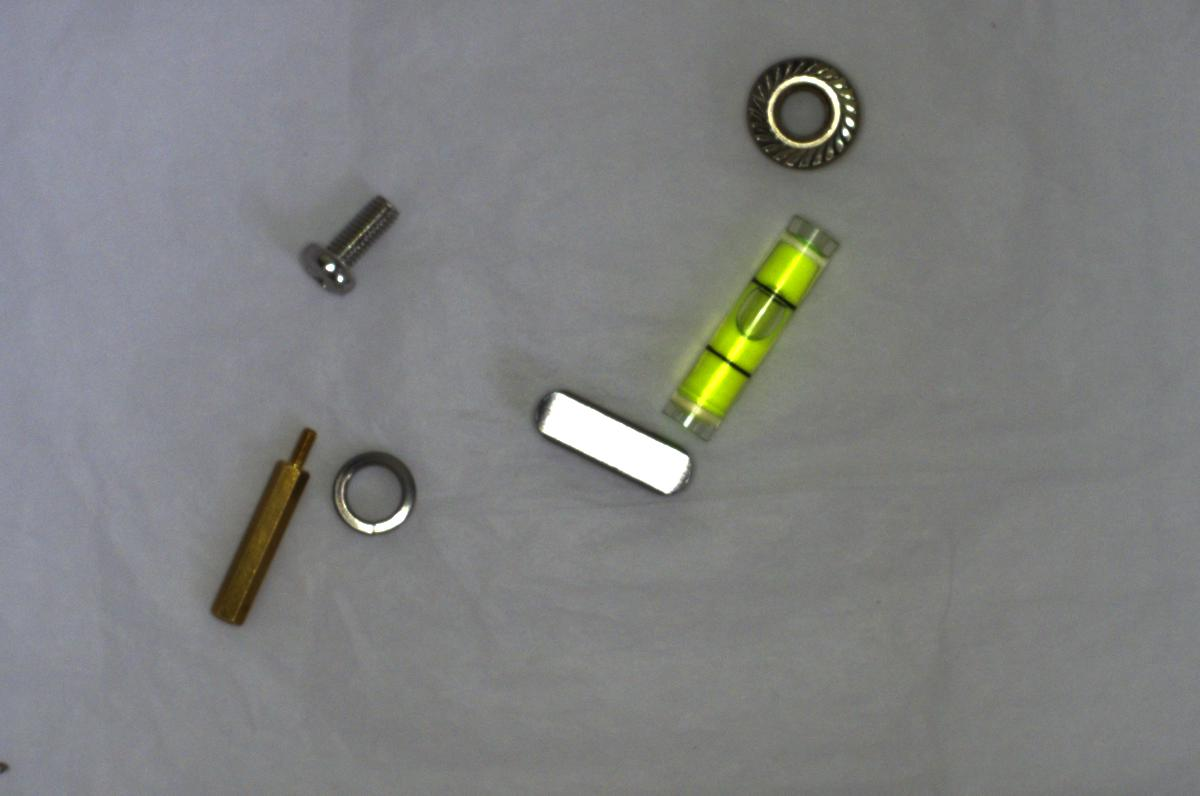Flange nut: (737, 50, 874, 176)
Hexagon pillar: (204, 416, 313, 626)
Horizontal bubble: (660, 209, 835, 441)
Keybar: (514, 383, 701, 501)
Round head screw: (298, 187, 401, 300)
Spring washer: (321, 443, 421, 540)
